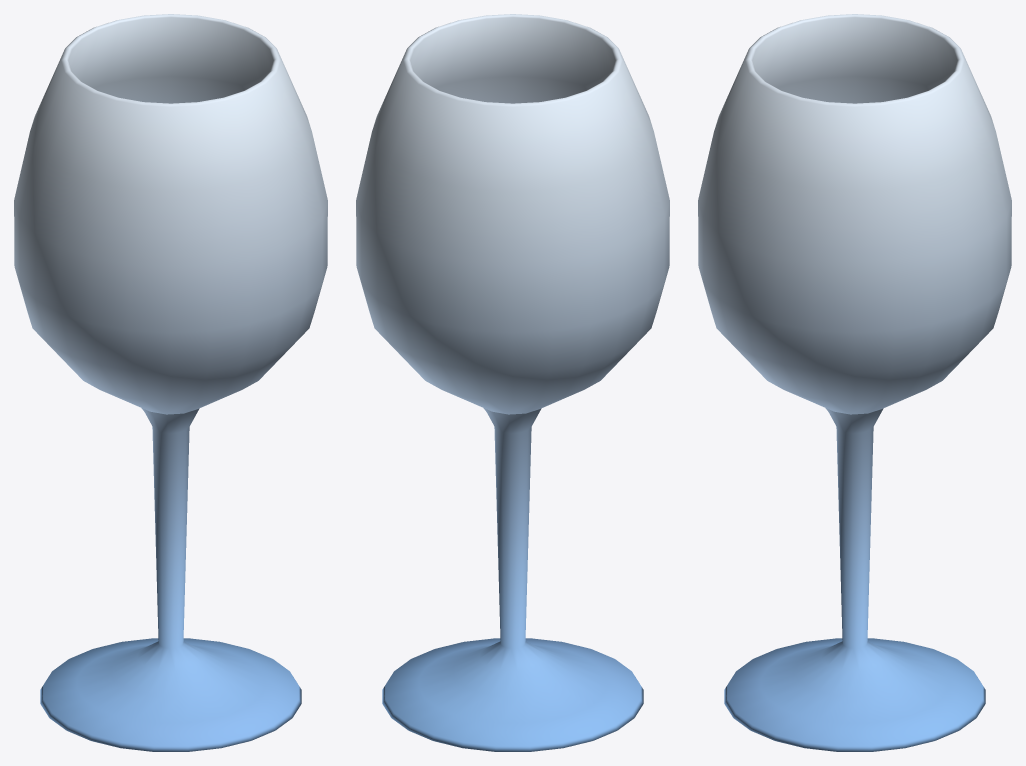
Rendered from glass_003.fbx.
3 views of the same model, side by side, from view 1: azimuth 30°, elevation 25°; view 2: azimuth 150°, elevation 25°; view 3: azimuth 270°, elevation 25° (orthographic).
Parts seen in each view (by area): view 1: glass_003; view 2: glass_003; view 3: glass_003.
Part boxes in pixels (x1,y1,x2,y2): glass_003: (14, 14, 327, 751); glass_003: (356, 14, 669, 751); glass_003: (698, 14, 1011, 751).
Size of the model in its own units: 8.95 by 8.95 by 20.08.
